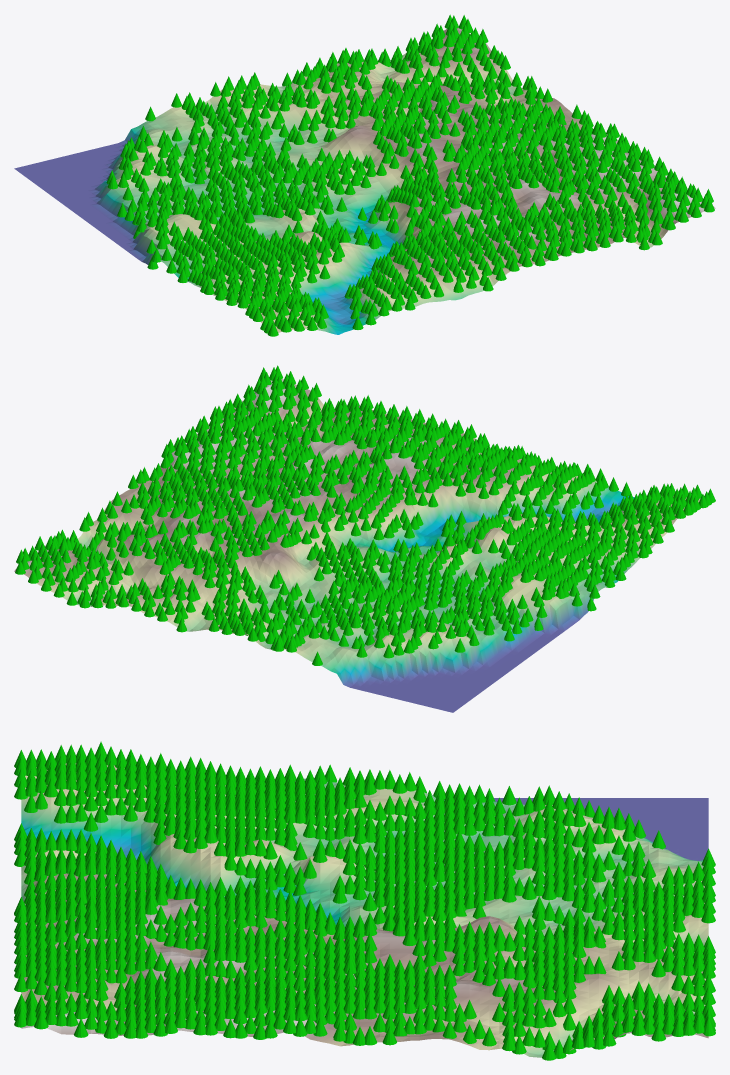
Rendered from 003719_with_tree.glb.
3 renders of one model, top to bottom at view 1: azimuth 30°, elevation 25°; view 2: azimuth 150°, elevation 25°; view 3: azimuth 270°, elevation 25°, orthographic. The views are drawn at different scales.
Visible parts, largest first — view 1: trees, terrain; view 2: trees, terrain; view 3: trees, terrain.
Part boxes in pixels (left/top/right/bottom): trees: left=106, top=14, right=714, bottom=336; terrain: left=14, top=27, right=715, bottom=334; trees: left=15, top=365, right=715, bottom=665; terrain: left=14, top=379, right=700, bottom=712; trees: left=14, top=741, right=715, bottom=1060; terrain: left=21, top=763, right=708, bottom=1057.
Bounding box in the file's own units: 0.0187 × 0.00228 × 0.019.
